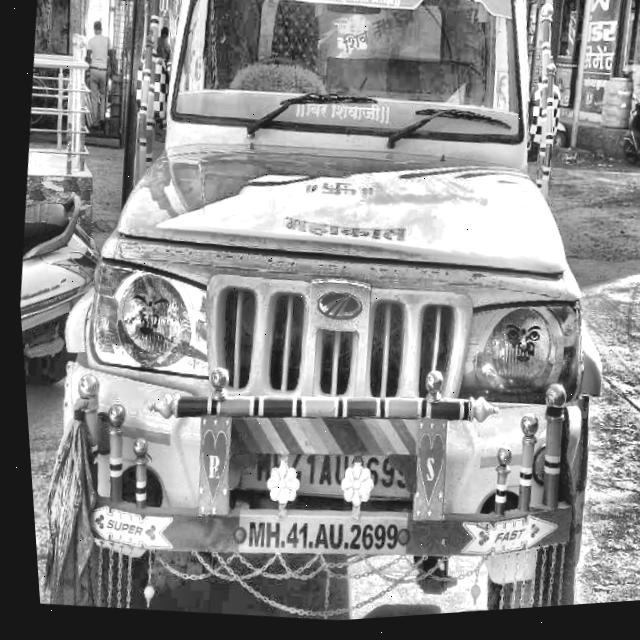light_vehicle: (10, 0, 640, 639)
